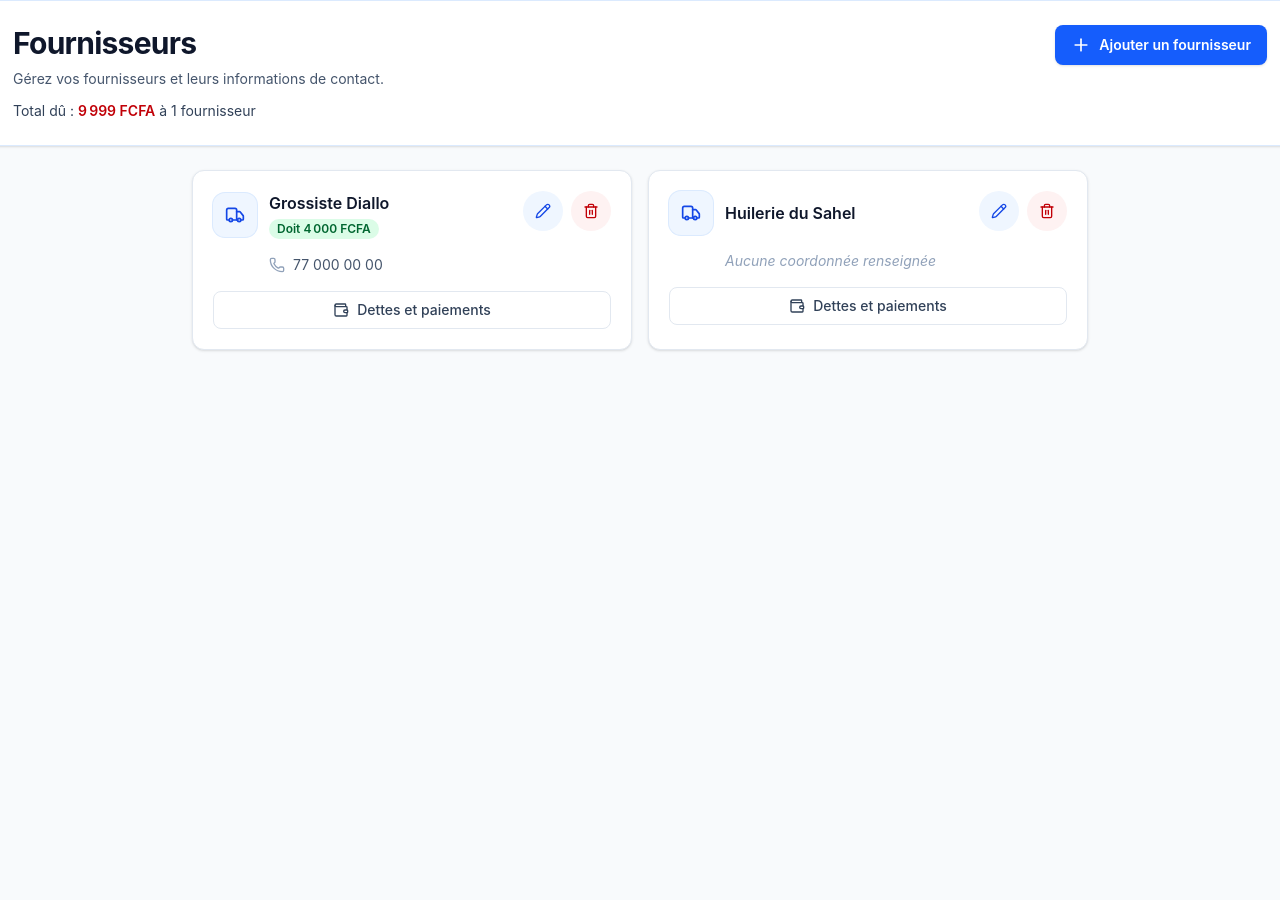
Fournisseurs : fiche des dettes et paiements › affiche les montants de l'API sans calcul : reste dû, payé à l'achat, paiements, corrections
Click the button with aria-label "Dettes et paiements du fournisseur Grossiste Diallo".
click(412, 310)  # box [213,291,611,329]
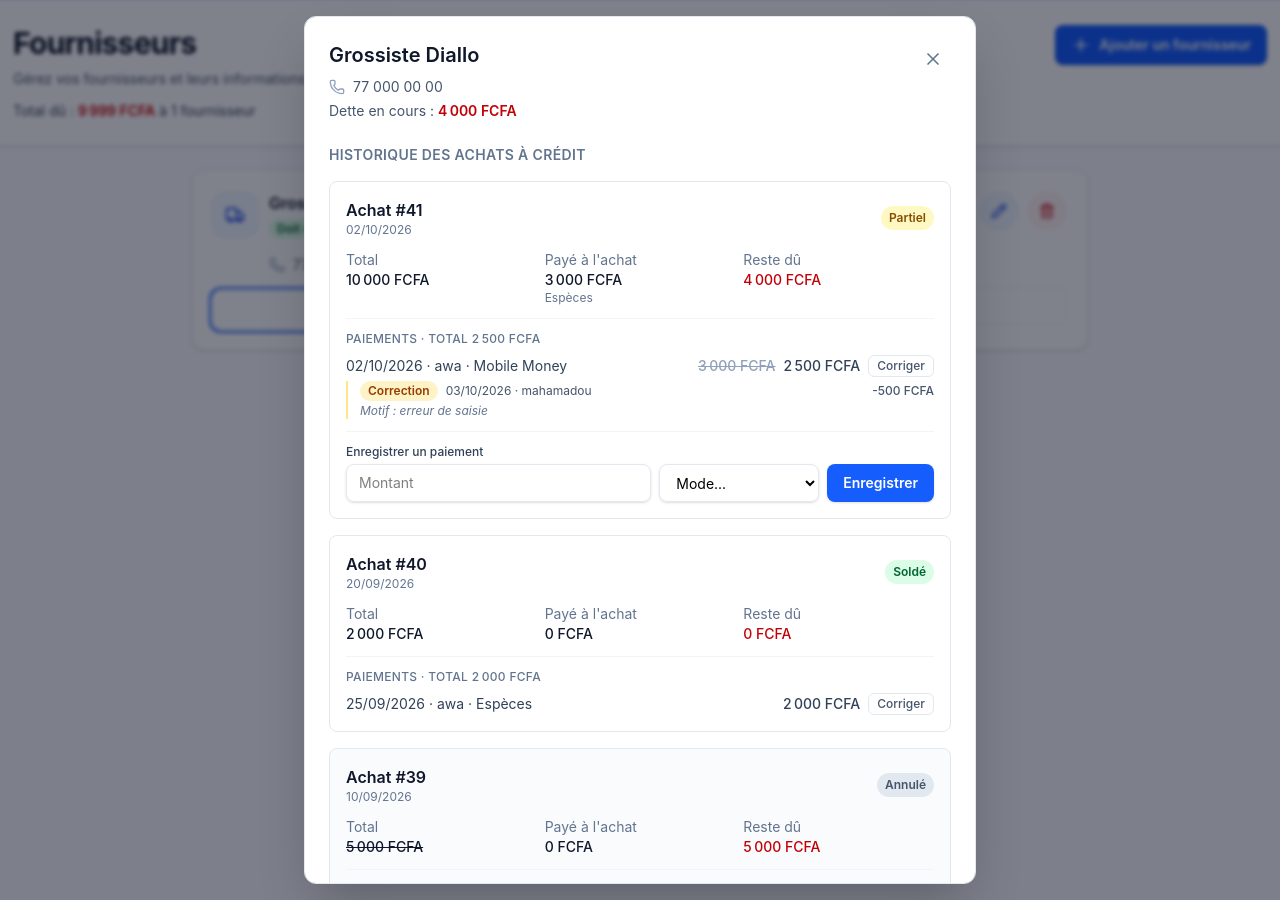
Expected: the text "Achat #41" is shown, [346,198,423,222]
Expected: the text "Dette en cours : 4 000 FCFA" is shown, [329,101,517,121]
Expected: the text "Partiel" is shown, [881,206,934,230]
